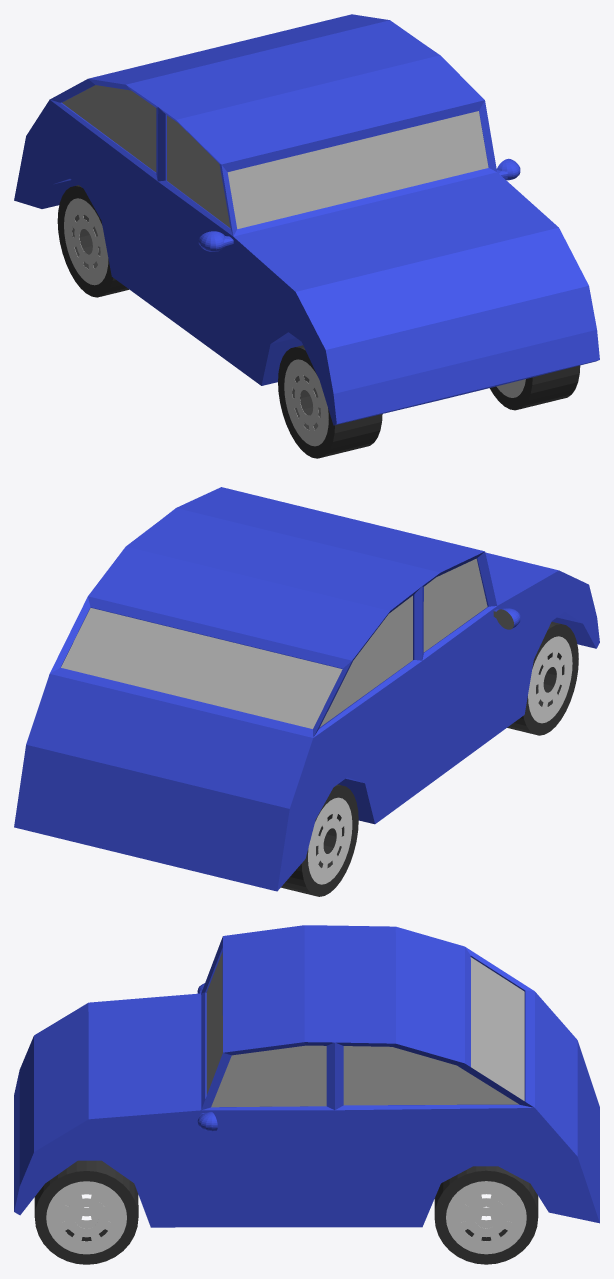
File: Macchina2_ruoteseparate.fbx
3 renders of one model, top to bottom at view 1: azimuth 30°, elevation 25°; view 2: azimuth 150°, elevation 25°; view 3: azimuth 270°, elevation 25°, orthographic. The views are drawn at different scales.
Visible parts, largest first — view 1: Telaio.001, FR, BR, FL; view 2: Telaio.001, BR, FR; view 3: Telaio.001, FL, BL.
Part boxes in pixels (<box>): Telaio.001: <box>14,14,599,425</box>; FR: <box>278,345,382,458</box>; BR: <box>57,185,128,297</box>; FL: <box>490,365,580,410</box>; Telaio.001: <box>14,487,599,891</box>; BR: <box>281,784,358,896</box>; FR: <box>507,622,578,735</box>; Telaio.001: <box>14,925,599,1227</box>; FL: <box>34,1160,138,1264</box>; BL: <box>434,1166,538,1264</box>.
Bounding box in the file's own units: 171 × 129 × 302.
